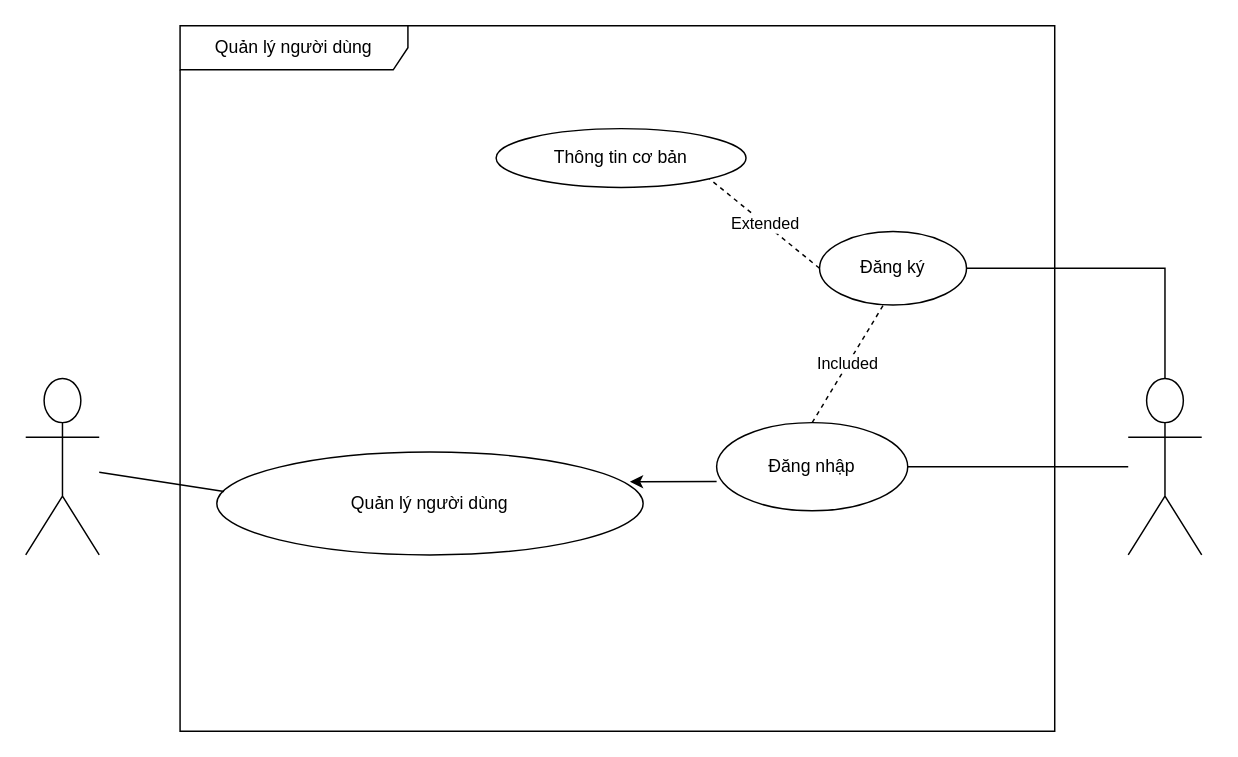
This 1238x757 diagram has some shape labels left out. The shapes that lost their labels are listed below. From the top down, each one's centre as x and y in pixels, then its label:
At (61,466): "Quản lý".
At (1164,466): "Người dùng".
